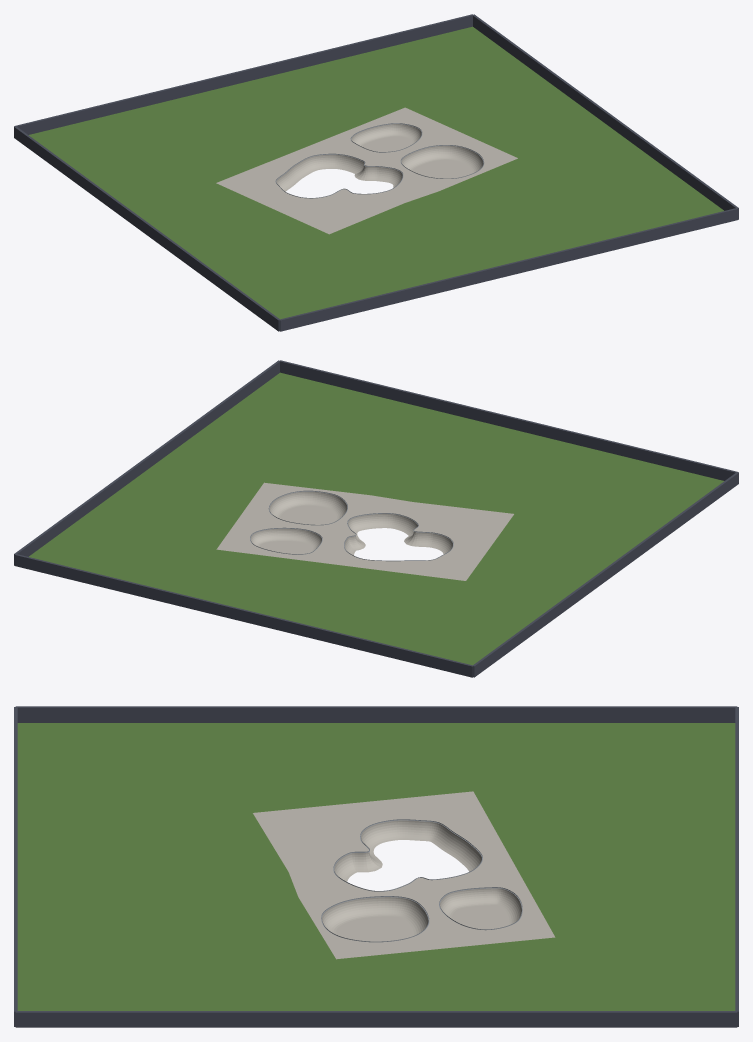
Rendered from spot_bjorns.glb.
3 views of the same model, one above another, from view 1: azimuth 30°, elevation 25°; view 2: azimuth 150°, elevation 25°; view 3: azimuth 270°, elevation 25° (orthographic). The views are drawn at different scales.
Parts seen in each view (by area): view 1: spot_bjorns; view 2: spot_bjorns; view 3: spot_bjorns.
Part boxes in pixels (x1,y1,x2,y2): spot_bjorns: (14, 14, 738, 331); spot_bjorns: (14, 360, 738, 677); spot_bjorns: (14, 706, 738, 1027).
Bounding box in the file's own units: 60.3 × 2.73 × 60.3.
Materials: 1 (1 with a texture image).
